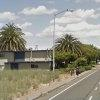Palm tree: (59, 27, 90, 77)
